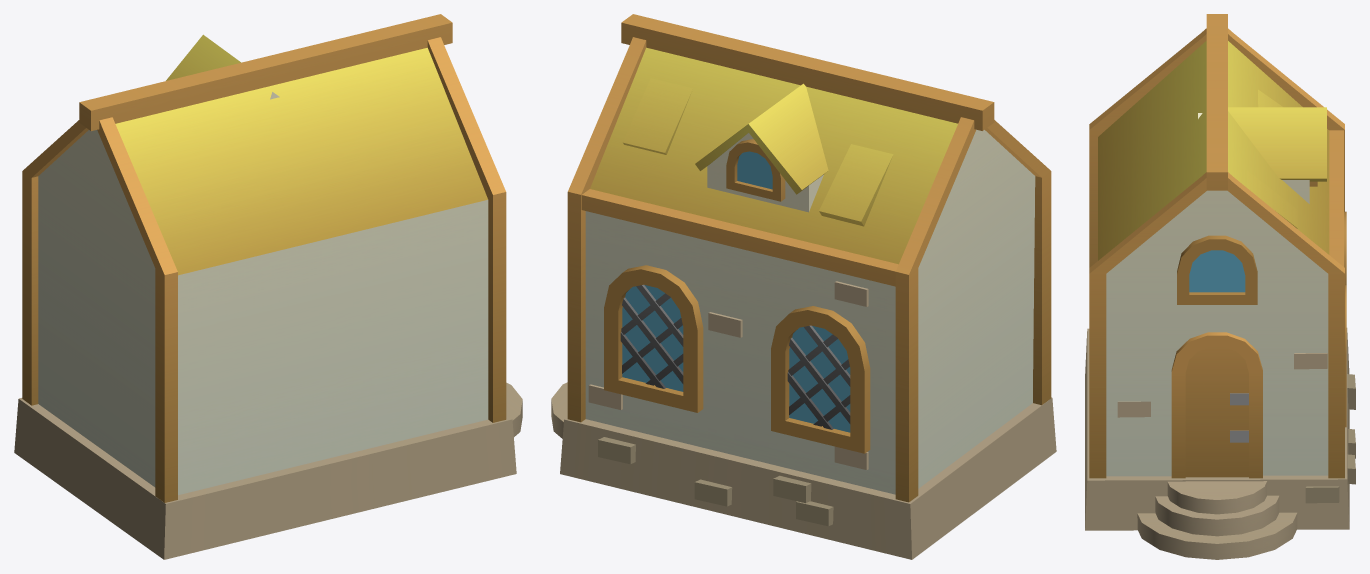
The model's file is House+2.fbx.
3 views of the same model, side by side, from view 1: azimuth 30°, elevation 25°; view 2: azimuth 150°, elevation 25°; view 3: azimuth 270°, elevation 25° (orthographic). The views are drawn at different scales.
Visible parts, largest first — view 1: House 2; view 2: House 2; view 3: House 2.
Part boxes in pixels (x1,y1,x2,y2): House 2: (14,14,522,559); House 2: (551,14,1056,559); House 2: (1085,14,1355,559).
Size of the model in its own units: 323 by 291 by 198.
